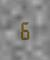six: (19, 20, 29, 40)
